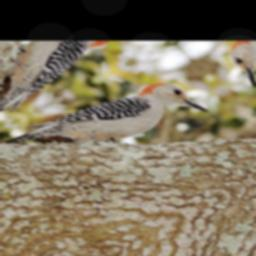Woodpecker: (0, 51, 218, 197)
